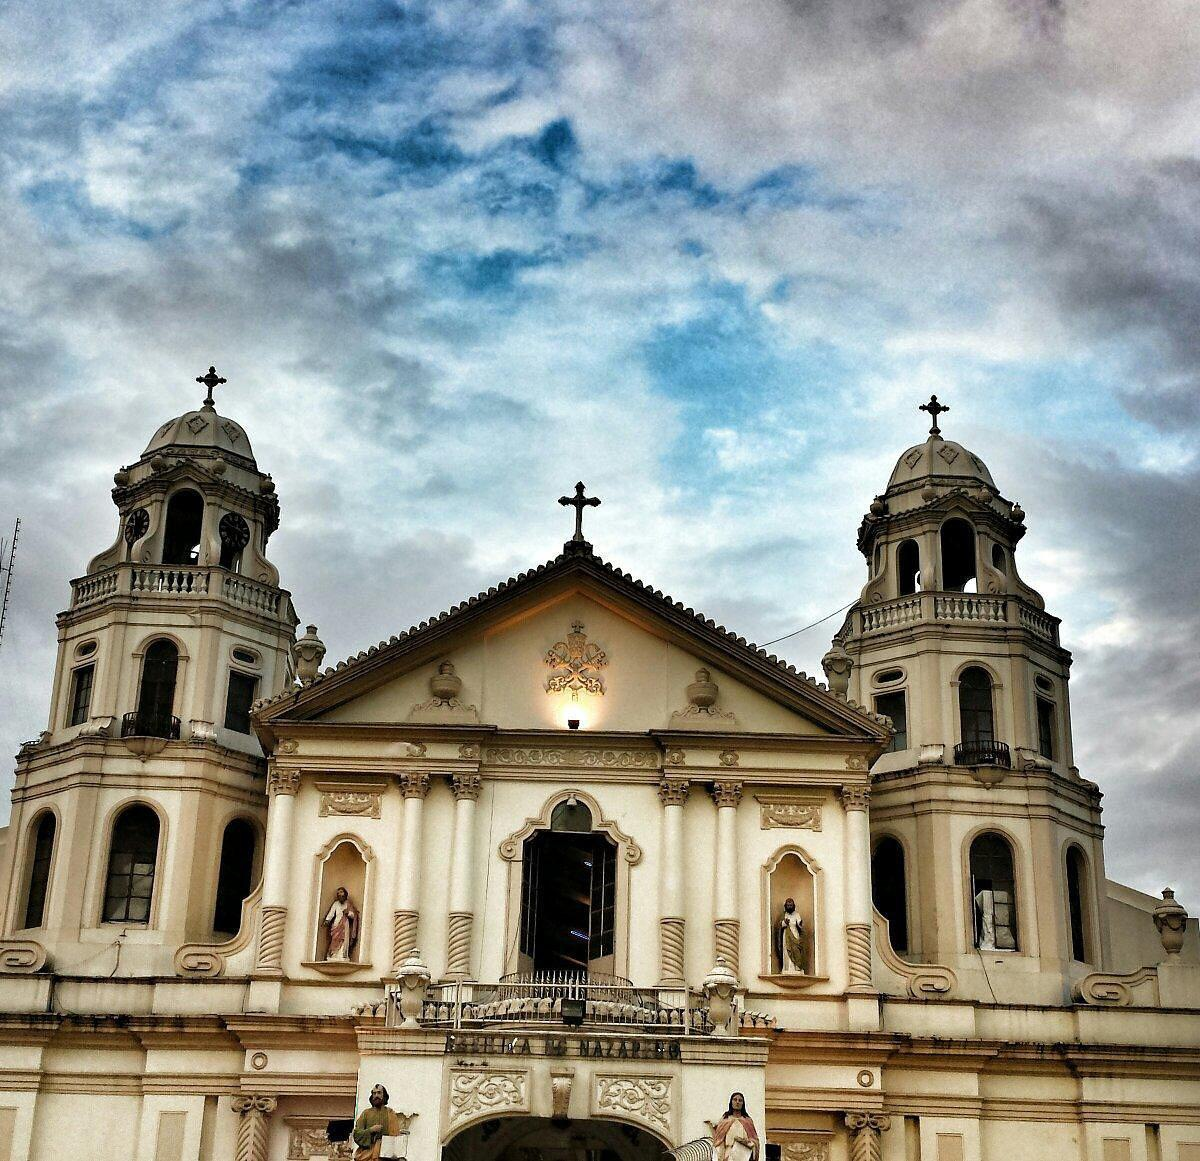quiapo_church_quiapo_manila: (6, 352, 1170, 1150)
